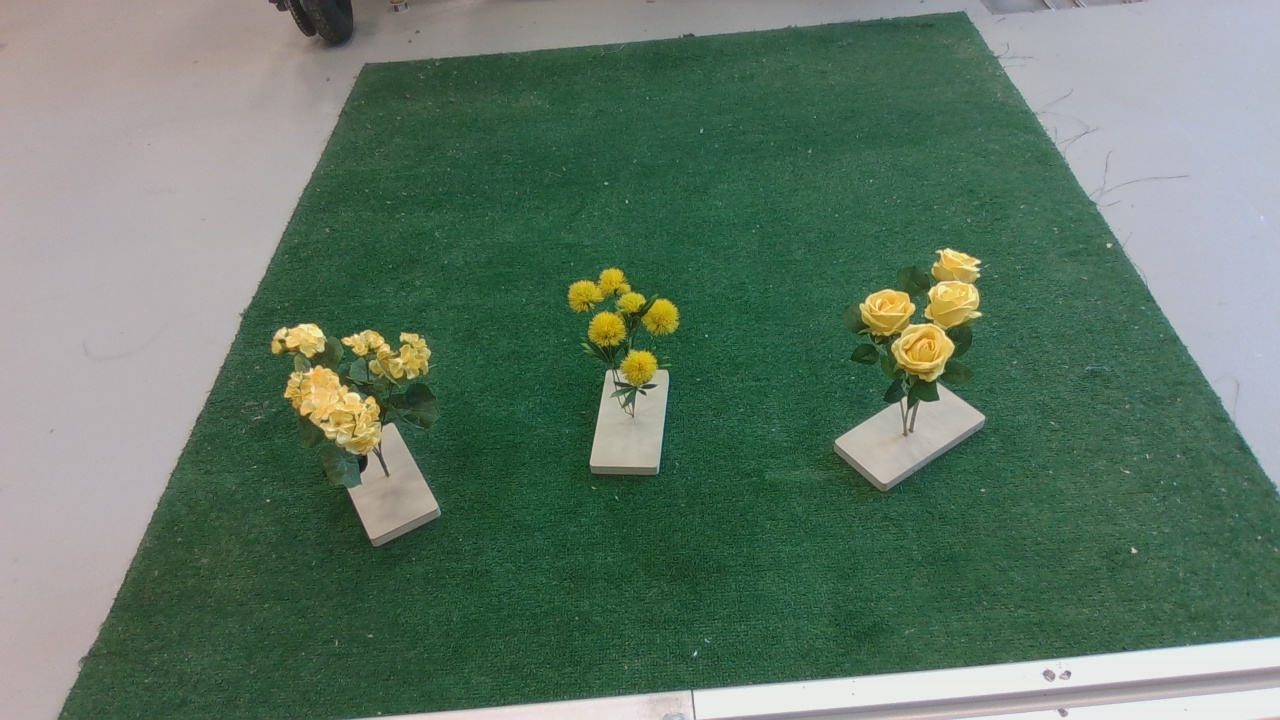dandelion: (565, 261, 692, 411)
geranium: (263, 325, 451, 493)
rose: (846, 240, 1004, 417)
